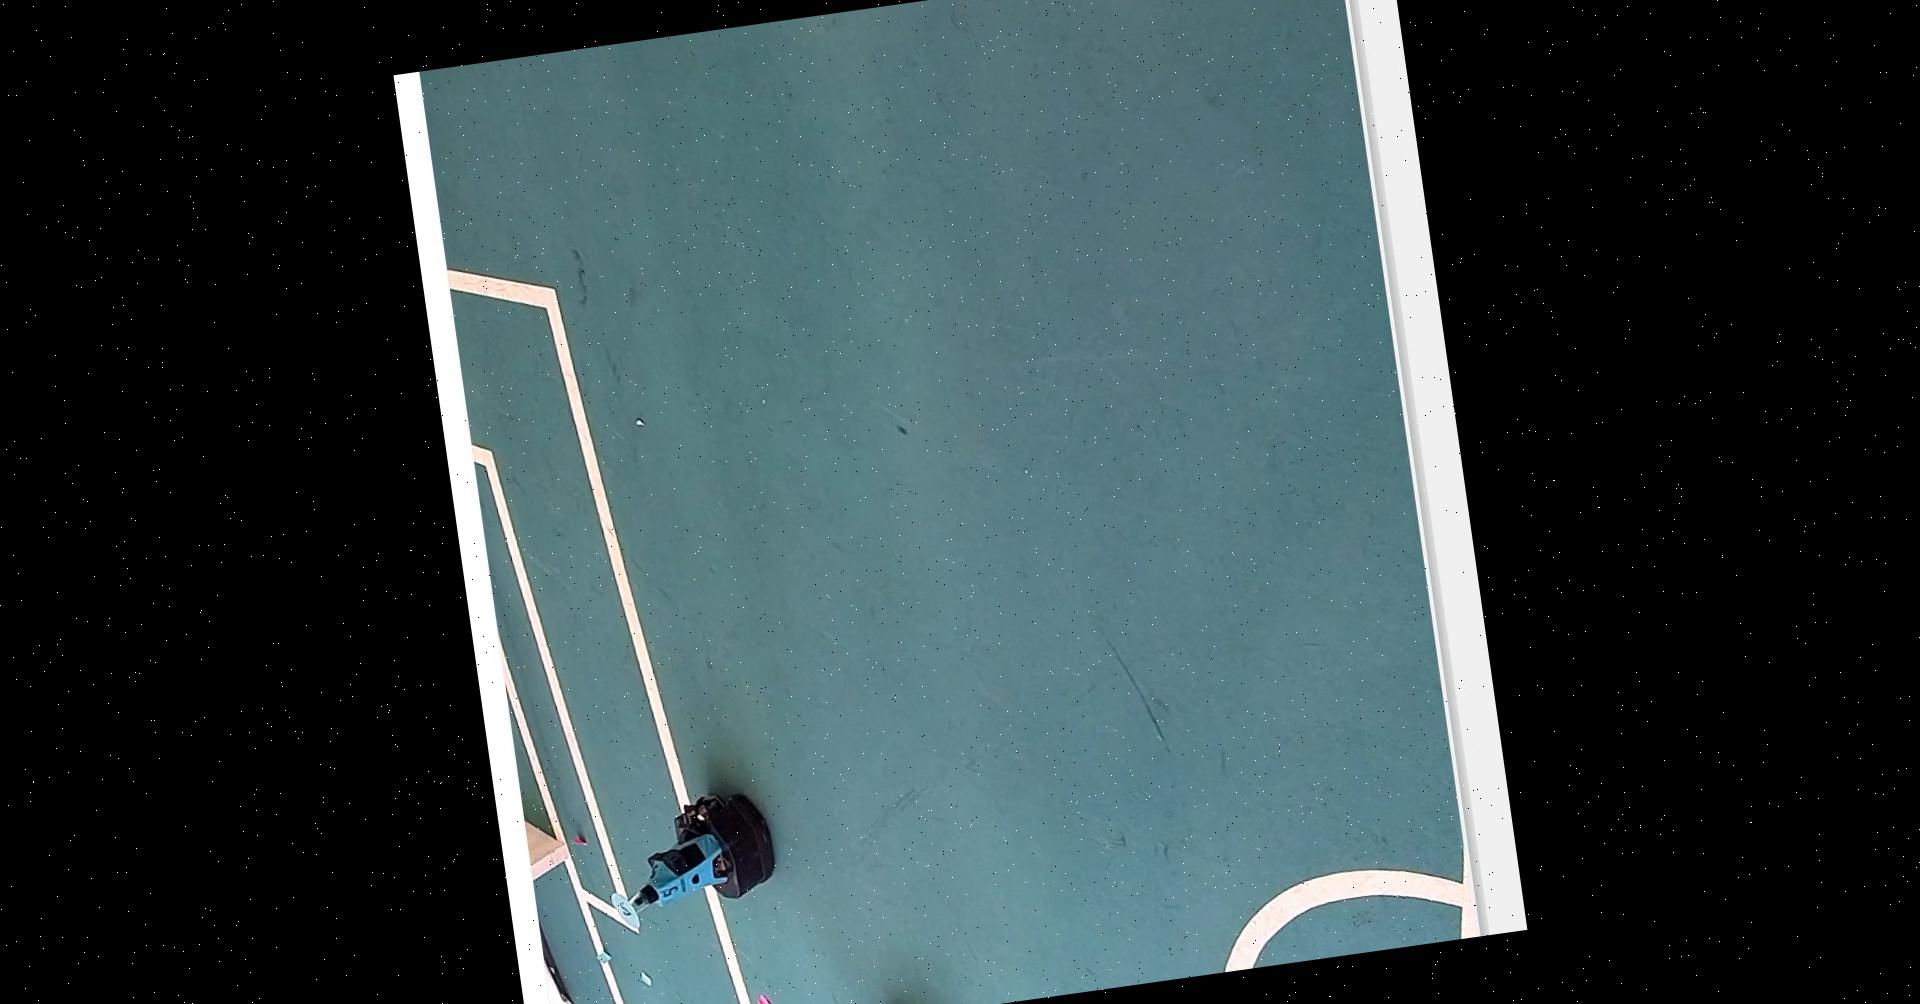Team_Blue: (587, 770, 785, 934)
